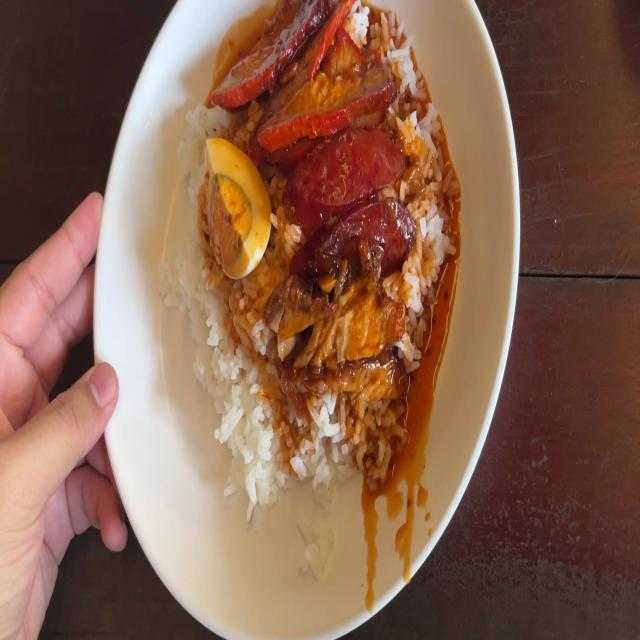01boiled_egg: (208, 144, 262, 264)
01chainese_sausage: (300, 130, 404, 282)
01crispy_pork: (265, 284, 406, 396)
01red_pork: (215, 0, 347, 109), (264, 59, 393, 143)
01red_pork_and_crispy_pork: (178, 0, 448, 500)
01rice: (196, 278, 270, 490), (267, 398, 397, 481)
